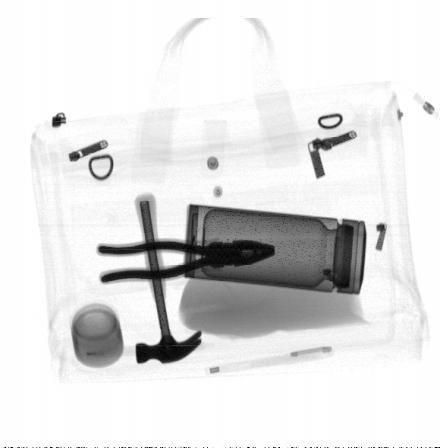Hammer: (134, 192, 204, 366)
Pliers: (96, 238, 275, 286)
